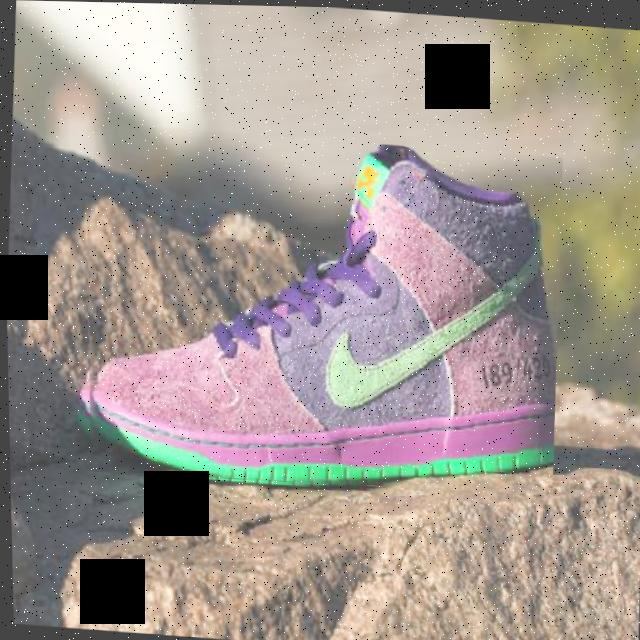shoe: (67, 122, 568, 503)
